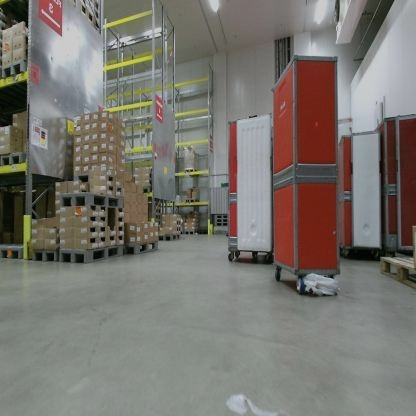pallets: (29, 239, 161, 266), (58, 192, 126, 211), (0, 59, 30, 82), (0, 149, 28, 170), (0, 244, 27, 264), (211, 214, 231, 229), (156, 233, 182, 242), (136, 186, 154, 195), (185, 168, 201, 175), (179, 229, 197, 235), (184, 198, 199, 204)
